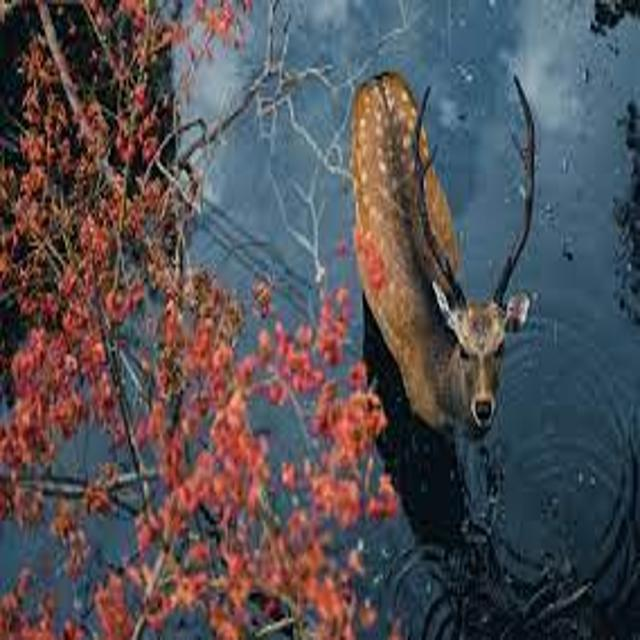Deer: (324, 55, 591, 485)
